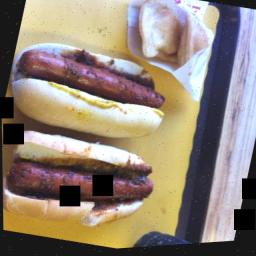hotdog: (0, 29, 176, 157), (2, 121, 162, 247)
